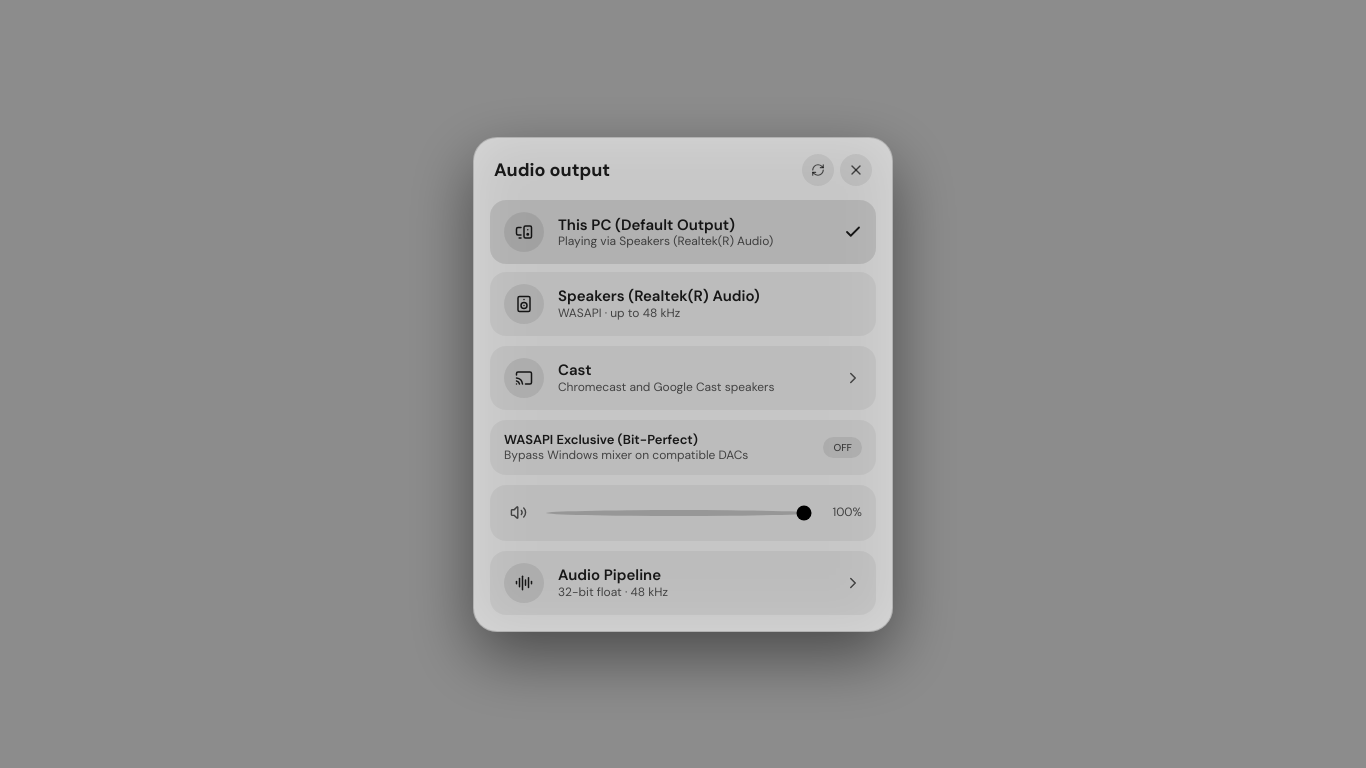
Test: AudioOutputModal › supports manual refresh while open when a USB DAC is plugged in
Expected: the text "FiiO KA11" is not shown
Click the button named "Refresh audio devices" at [818, 170], box [802,154,834,186]
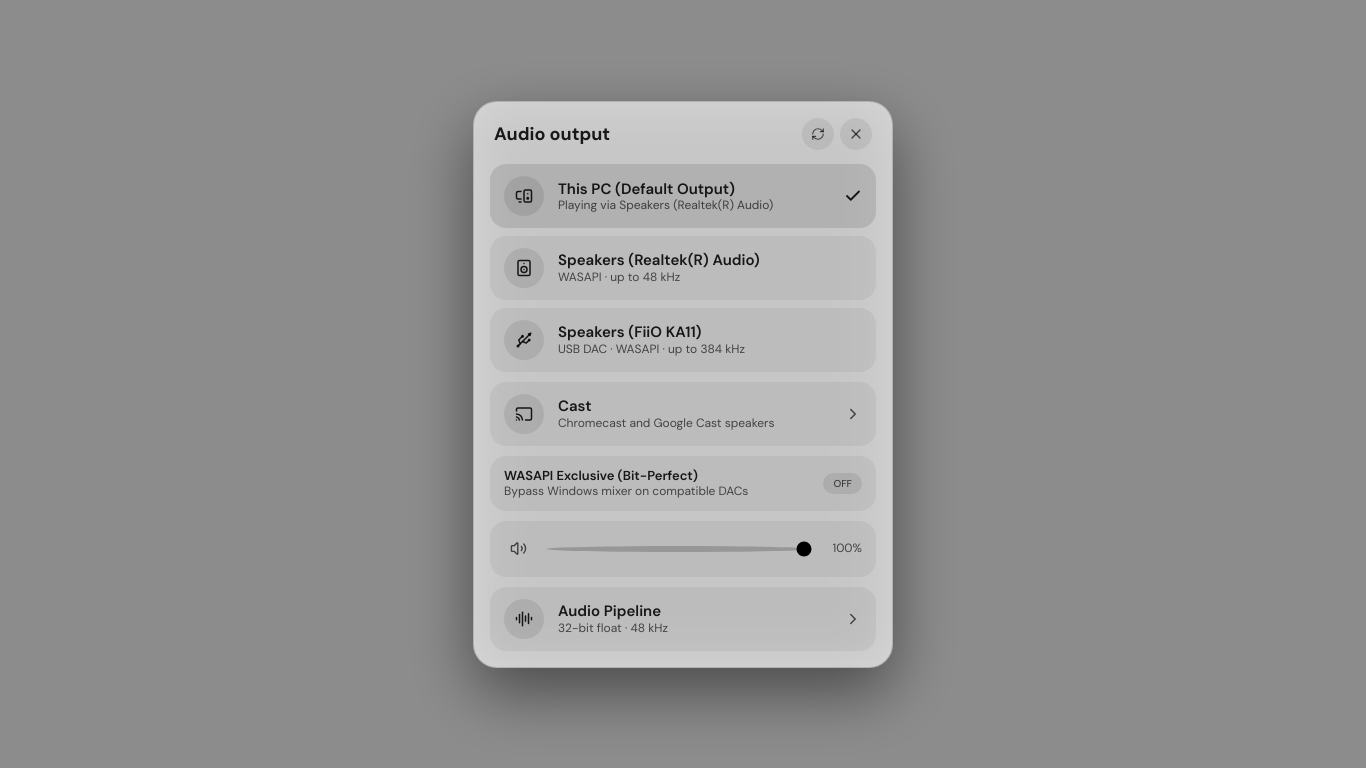
Expected: the text "Speakers (FiiO KA11)" is shown, [558,322,702,342]
Expected: the text "USB DAC · WASAPI · up to 384 kHz" is shown, [558,341,745,357]
